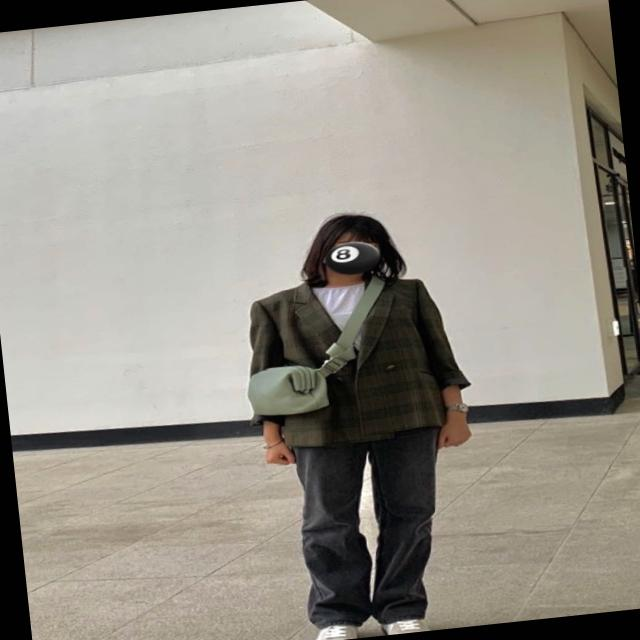blazer: (239, 263, 471, 452)
denimpants: (288, 428, 454, 628)
